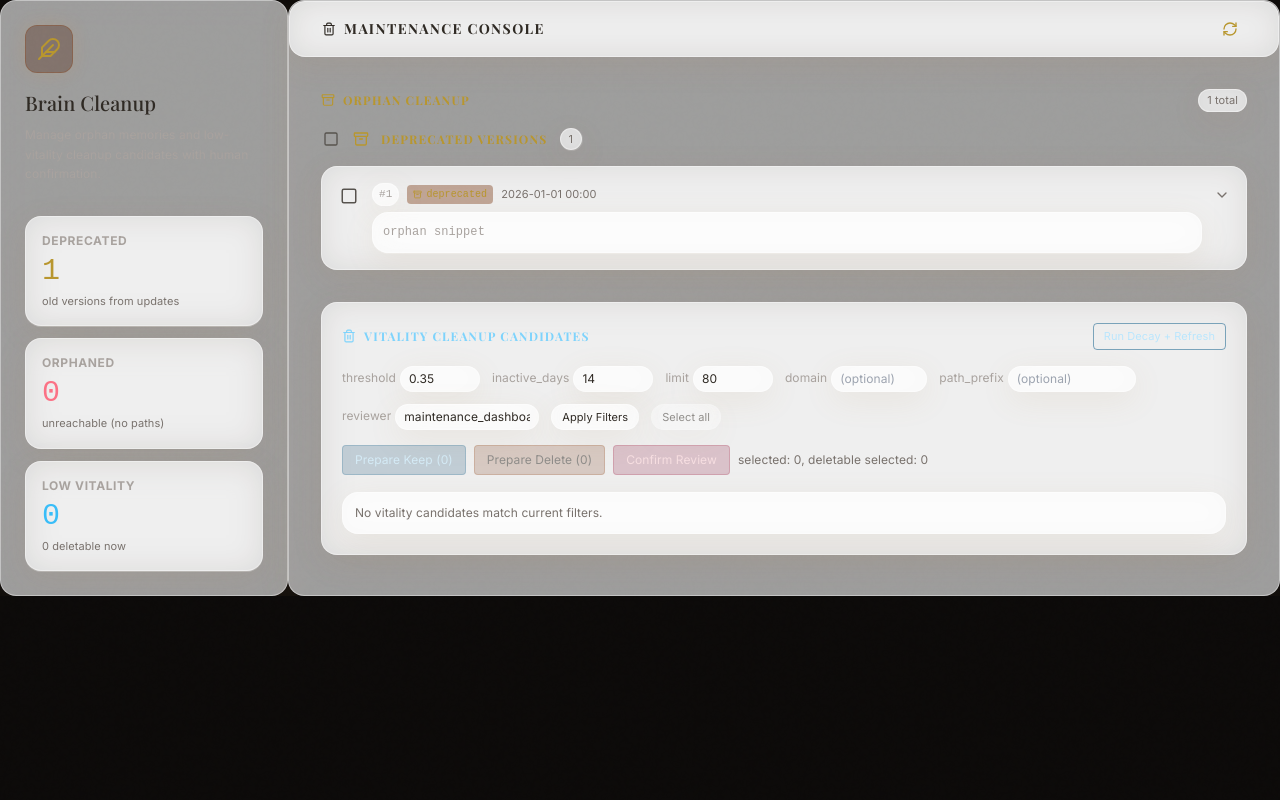
Scenario: MaintenancePage › loads orphan list and detail via shared API module
Step 1. Click the text "orphan snippet" → click(787, 232), box 372,212 -> 1202,253
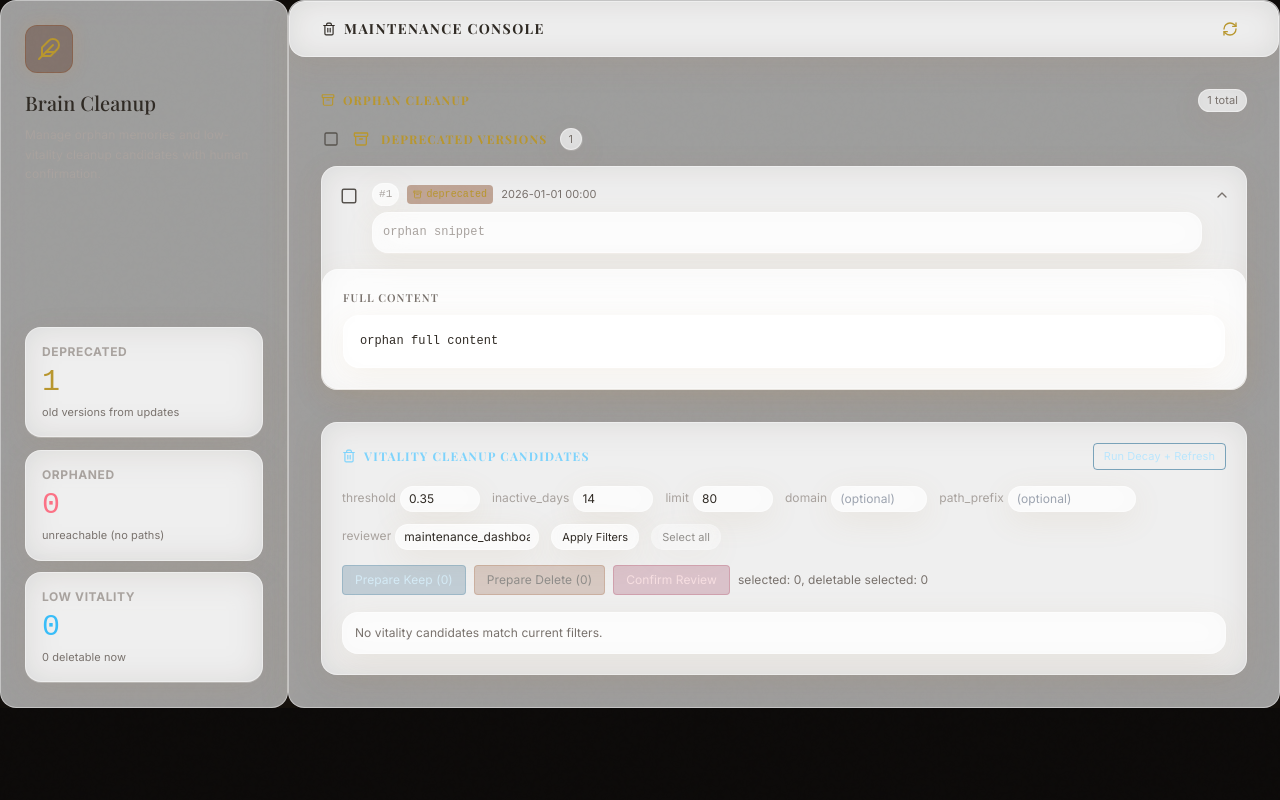
expect the text "orphan full content" is shown: met, box 343,314 -> 1225,368
